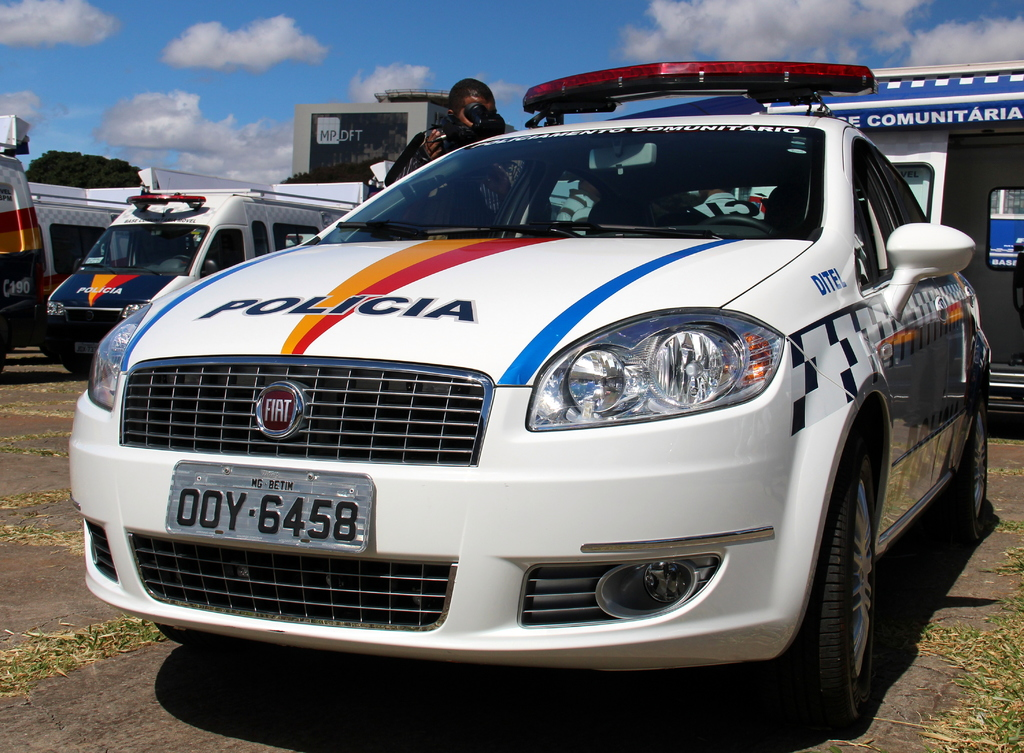Car: (49, 70, 997, 717)
